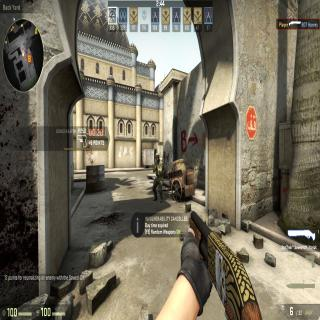CT-Body: (152, 152, 164, 202)
CT-Head: (155, 153, 160, 163)
